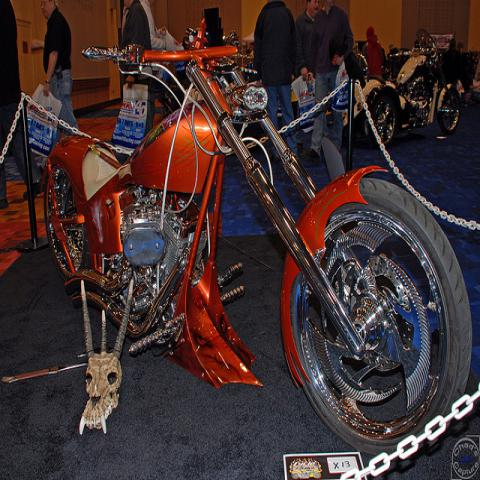motorcycle: (38, 15, 473, 388), (362, 29, 462, 146)
